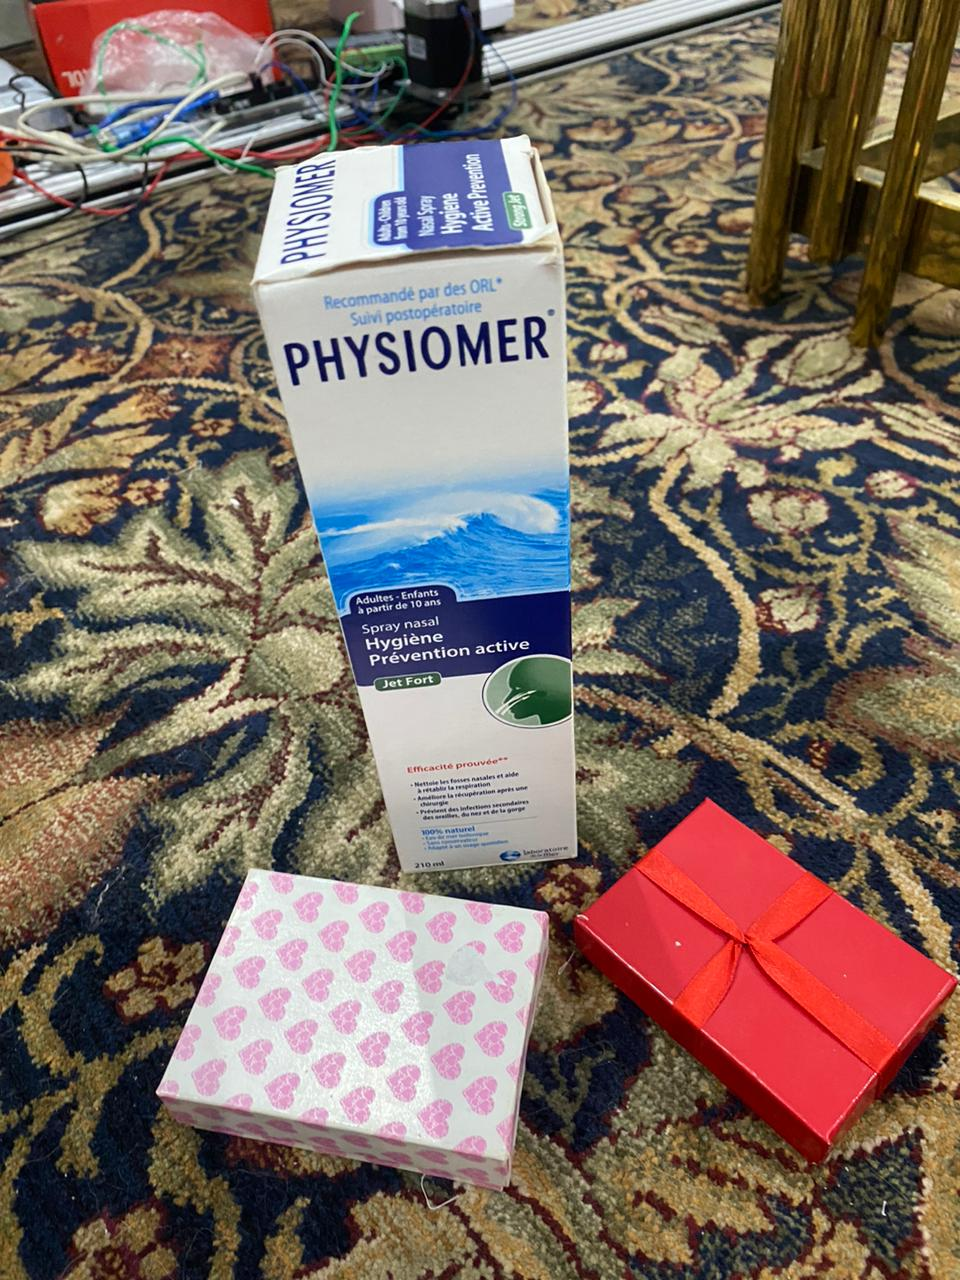Physiomer: (267, 134, 613, 870)
Pink Box: (154, 868, 551, 1205)
Red Box: (576, 794, 957, 1165)
